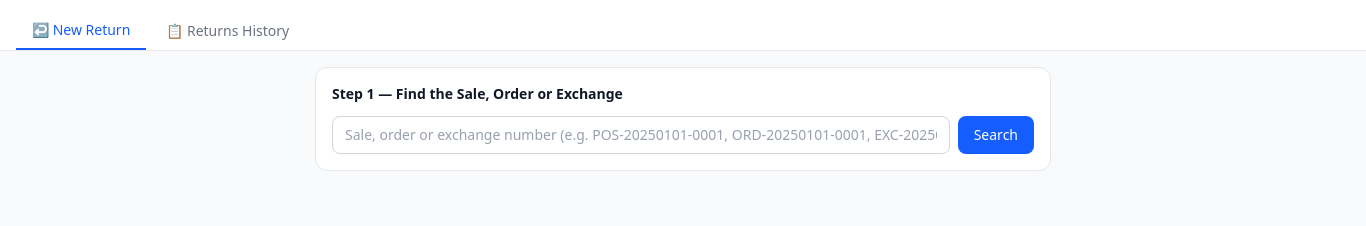
Test: after the exchange (1a, 5a) › names the exchange of a binding fee given back in Returns
Click the button "📋 Returns History".
click(228, 31)  # box [150,12,305,50]
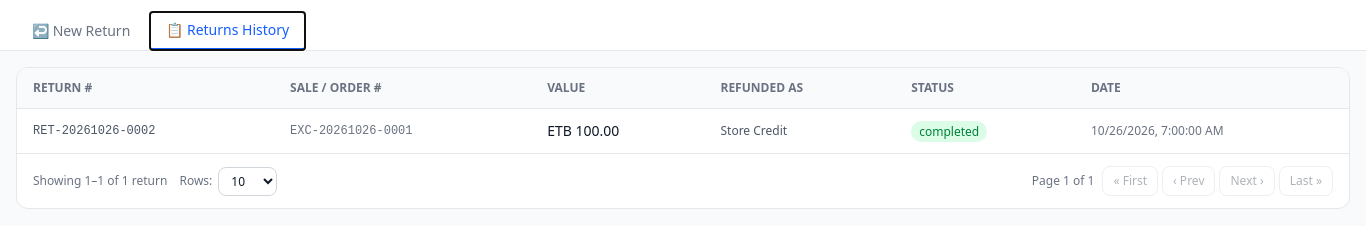
Now the text "EXC-20261026-0001" is shown, box [274,108,531,153]
